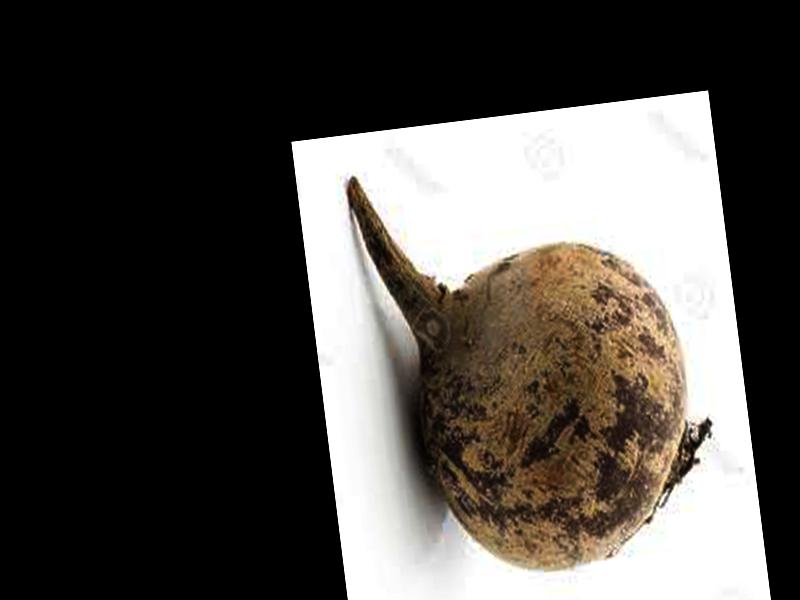Beet: (347, 139, 726, 590)
